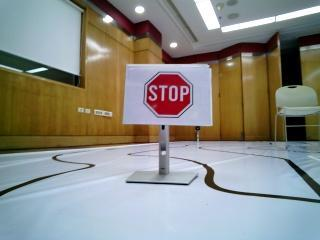stop: (133, 64, 202, 114)
